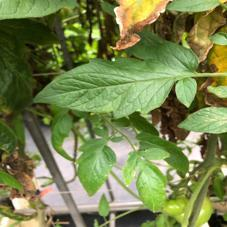Healthy: (29, 36, 200, 119), (77, 138, 116, 195)
